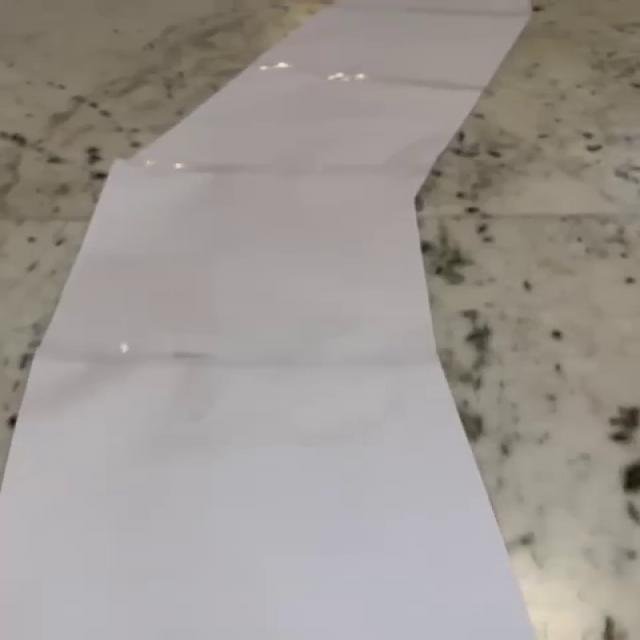road: (3, 1, 533, 640)
